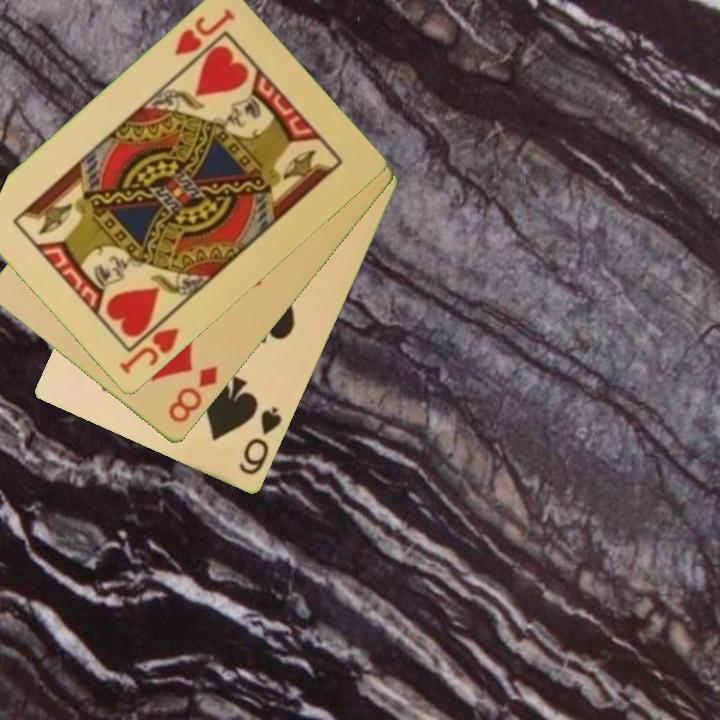6s: (235, 403, 285, 479)
8d: (164, 362, 221, 427)
Jh: (115, 309, 182, 378), (170, 6, 238, 60)
